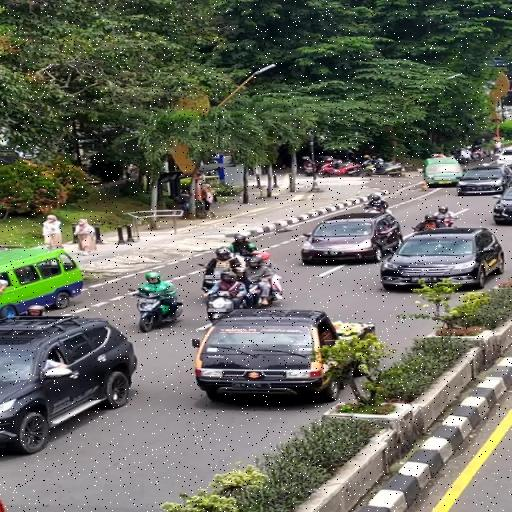Helmet: (145, 270, 163, 286), (214, 247, 232, 262), (248, 256, 263, 270), (234, 229, 246, 245), (221, 271, 235, 282), (258, 251, 269, 262), (235, 268, 247, 278), (438, 204, 450, 214), (425, 212, 436, 220), (373, 194, 378, 202)
Motor: (135, 296, 182, 328), (202, 293, 238, 323)
